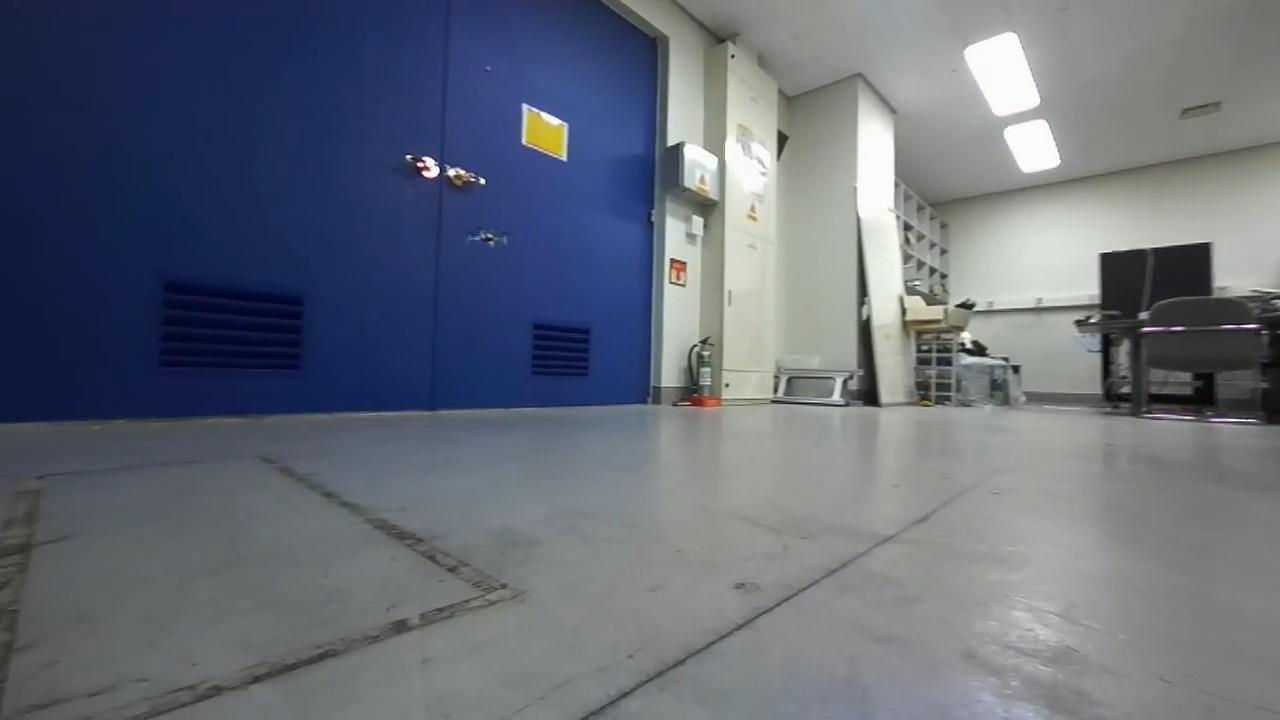crazyflie: (462, 223, 514, 252)
